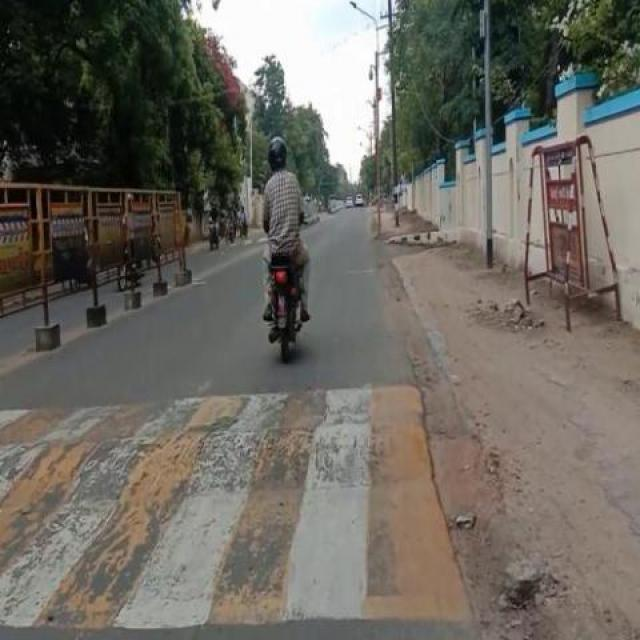Speed Bump: (1, 384, 476, 632)
